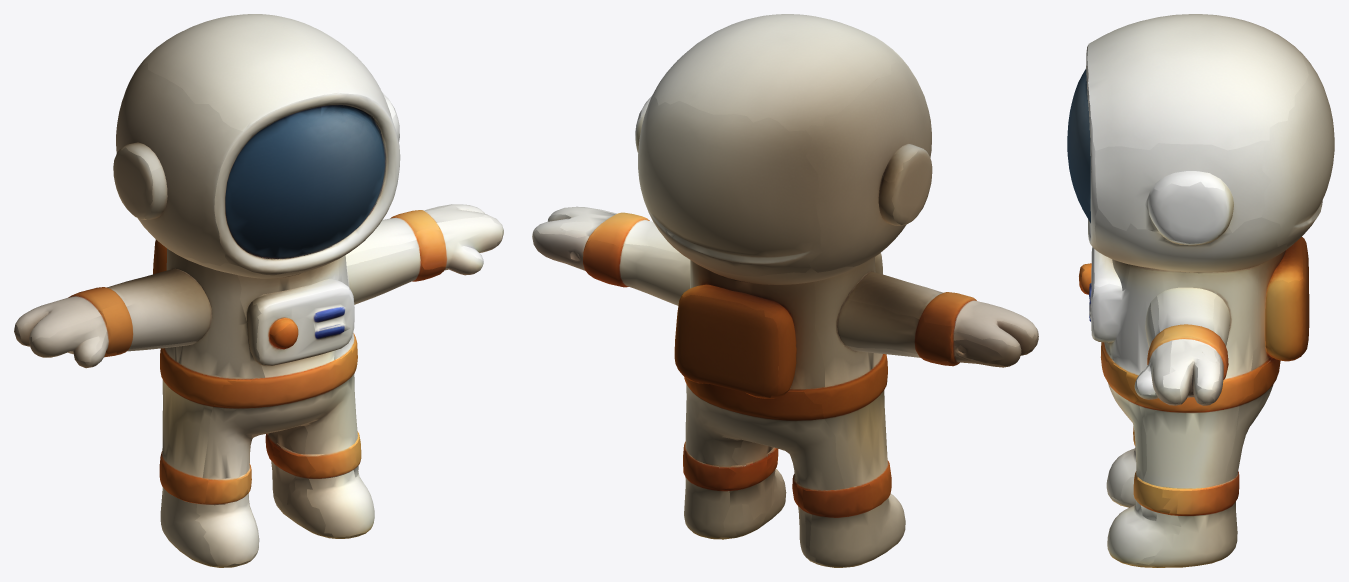
File: Astro_Final.fbx
The picture shows the model from 3 angles, left to right: view 1: azimuth 30°, elevation 25°; view 2: azimuth 150°, elevation 25°; view 3: azimuth 270°, elevation 25°; orthographic projection. The views are drawn at different scales.
Visible parts, largest first — view 1: geometry_0; view 2: geometry_0; view 3: geometry_0.
Part boxes in pixels (bbox=[...]): geometry_0: bbox=[14, 14, 503, 567]; geometry_0: bbox=[532, 14, 1038, 567]; geometry_0: bbox=[1067, 14, 1334, 567].
Bounding box in the file's own units: 200 × 200 × 97.8.
